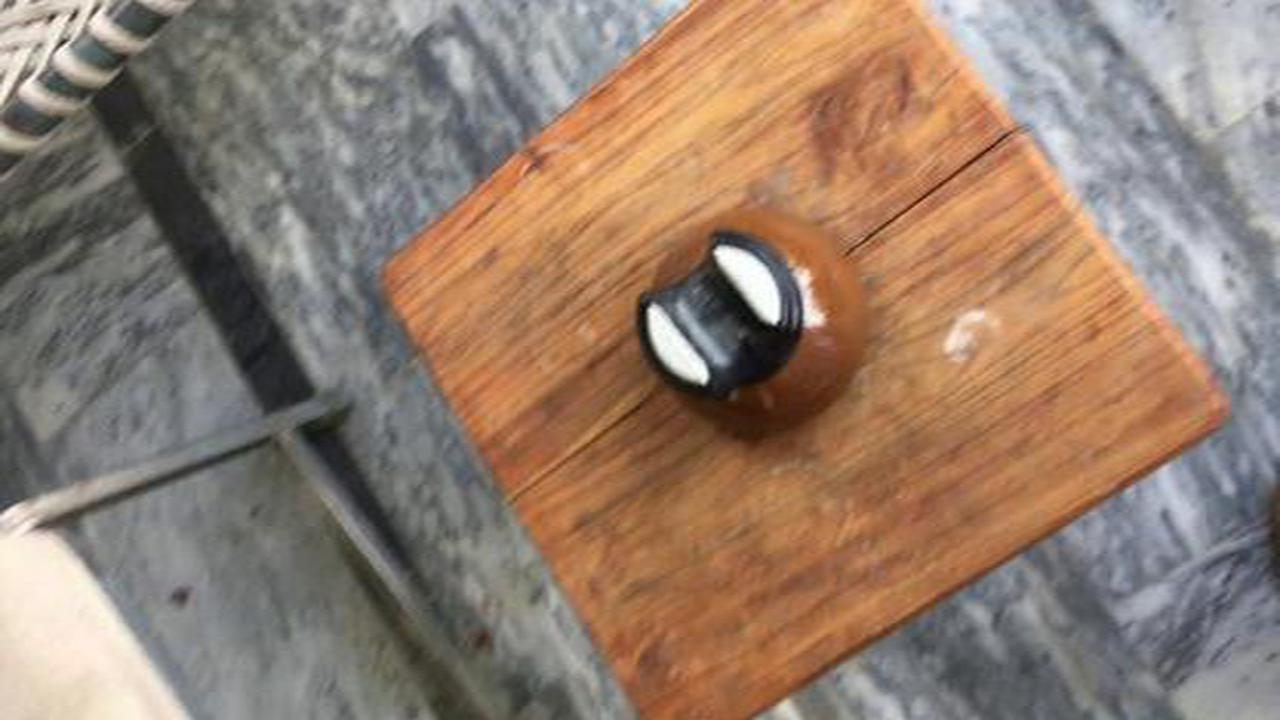insulator_pin: (622, 203, 890, 449)
